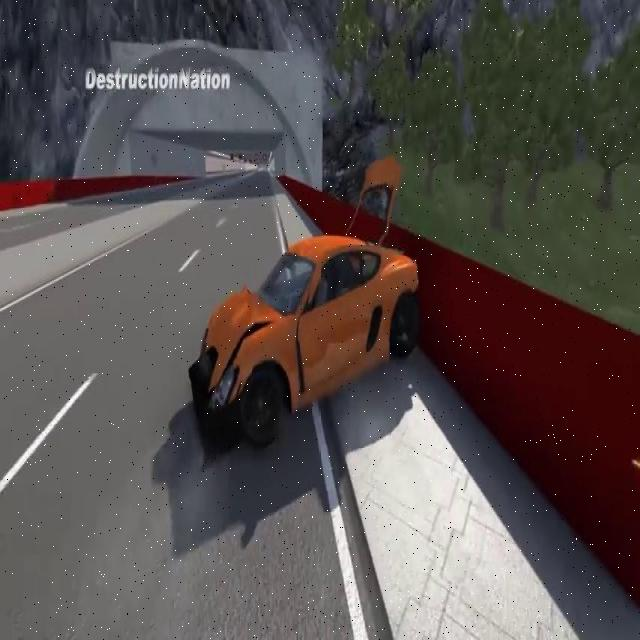moderate: (184, 145, 438, 463)
